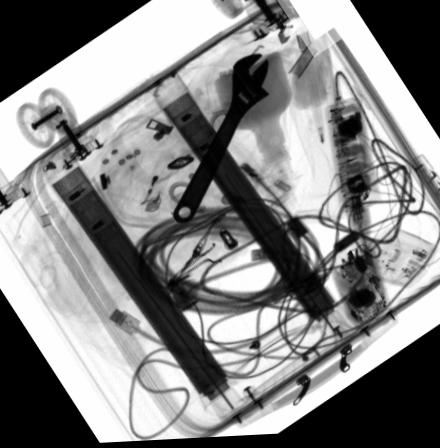Wrench: (172, 55, 270, 225)
